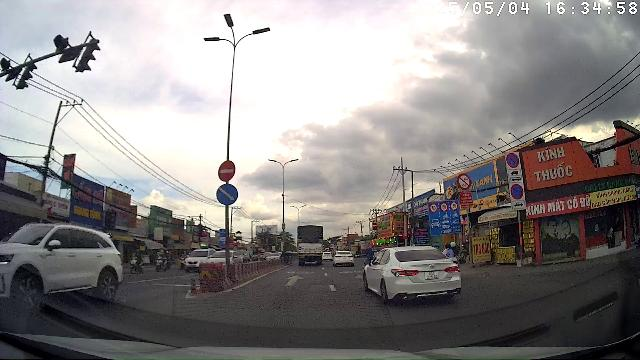102-cam-di-nguoc-chieu: (218, 160, 236, 181)
127-toc-do-toi-da-60: (440, 202, 448, 212), (430, 203, 438, 212), (450, 201, 458, 210)
130-cam-dung-va-do-xe: (506, 152, 520, 168)
131a-cam-do-xe: (510, 183, 525, 200)
302a-huong-phai-di-vong-chuong-ngai-vat-1: (217, 184, 239, 205)
